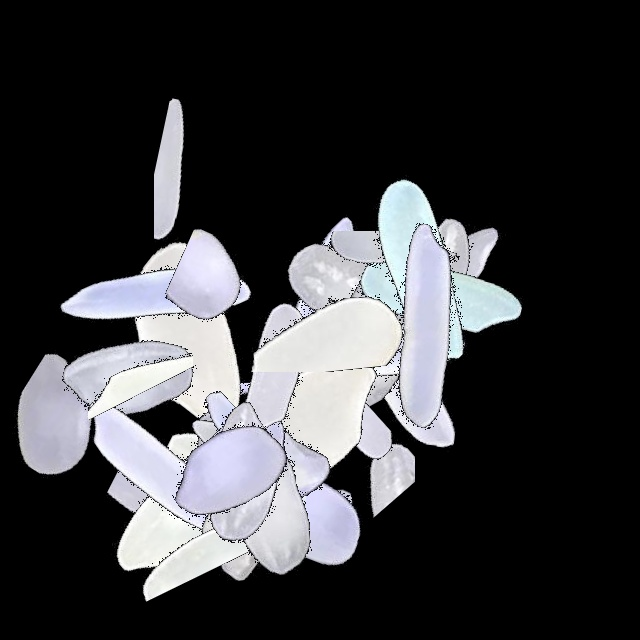Broken: (122, 371, 296, 621), (145, 304, 317, 554), (246, 220, 417, 470), (214, 322, 384, 572), (6, 316, 172, 566), (269, 324, 519, 479), (157, 399, 407, 549), (60, 427, 310, 574), (167, 387, 311, 637), (163, 386, 306, 636), (175, 365, 425, 503), (115, 224, 365, 362), (154, 56, 285, 306), (186, 242, 436, 372), (257, 231, 507, 359), (141, 383, 261, 633), (299, 330, 415, 580), (240, 337, 355, 587), (131, 361, 243, 611), (88, 209, 193, 459), (216, 390, 320, 640), (171, 364, 275, 614), (192, 307, 290, 557), (158, 408, 408, 506), (290, 278, 375, 528), (328, 179, 411, 429)
Full: (185, 195, 435, 445), (104, 386, 354, 636), (271, 207, 521, 457), (70, 209, 320, 459), (233, 161, 483, 411), (0, 253, 250, 503), (75, 376, 325, 626), (35, 343, 285, 593), (246, 213, 496, 463), (121, 384, 371, 634), (175, 390, 425, 640), (109, 341, 359, 591), (312, 145, 562, 395), (302, 157, 552, 407), (28, 173, 278, 423), (241, 224, 491, 474), (164, 300, 414, 550), (314, 172, 564, 422), (147, 345, 397, 595), (143, 248, 393, 498), (301, 142, 551, 392), (301, 200, 551, 450), (139, 379, 389, 629), (104, 347, 354, 597)
